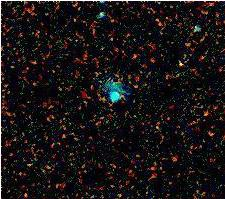star: (163, 46, 193, 76)
